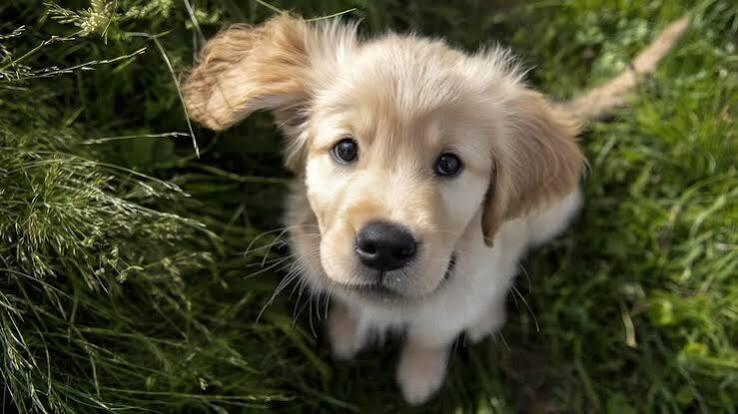puppy-dog: (180, 7, 696, 406)
